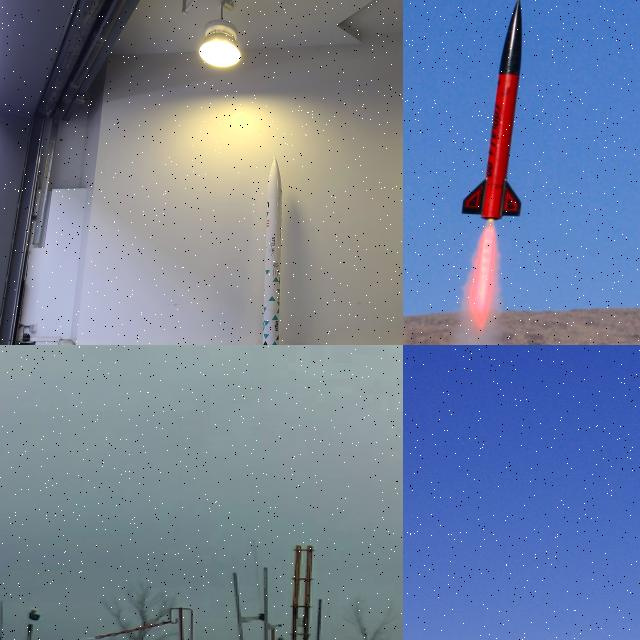Rocket: (459, 0, 524, 221), (262, 156, 282, 345)
